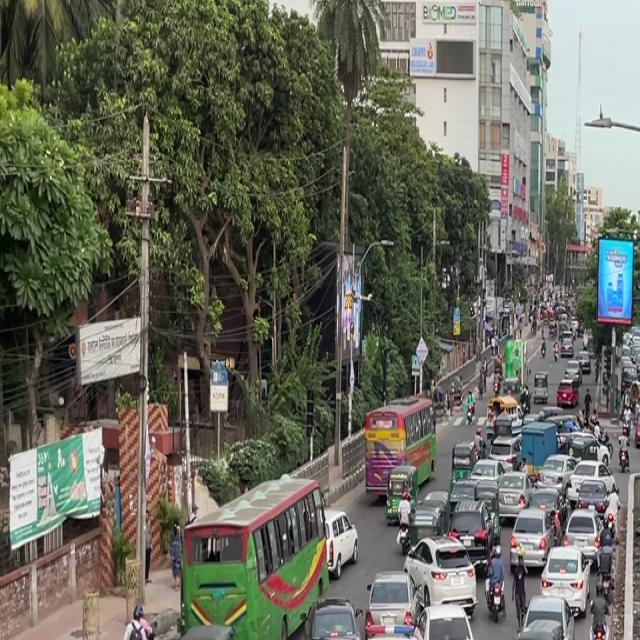bus: (164, 463, 325, 640), (361, 392, 443, 503)
car: (424, 536, 479, 622), (540, 538, 593, 622), (363, 561, 418, 640), (441, 492, 495, 564), (413, 592, 484, 640), (320, 506, 363, 583), (508, 505, 552, 579), (326, 616, 445, 640), (562, 499, 601, 565), (521, 587, 569, 640), (493, 464, 532, 524), (535, 453, 572, 511), (569, 467, 607, 517)
motorbike: (596, 532, 618, 602), (509, 556, 530, 628), (486, 553, 507, 623), (600, 497, 620, 547), (586, 609, 610, 640)
rickshaw: (509, 602, 570, 640), (170, 621, 233, 640), (208, 632, 284, 640)
